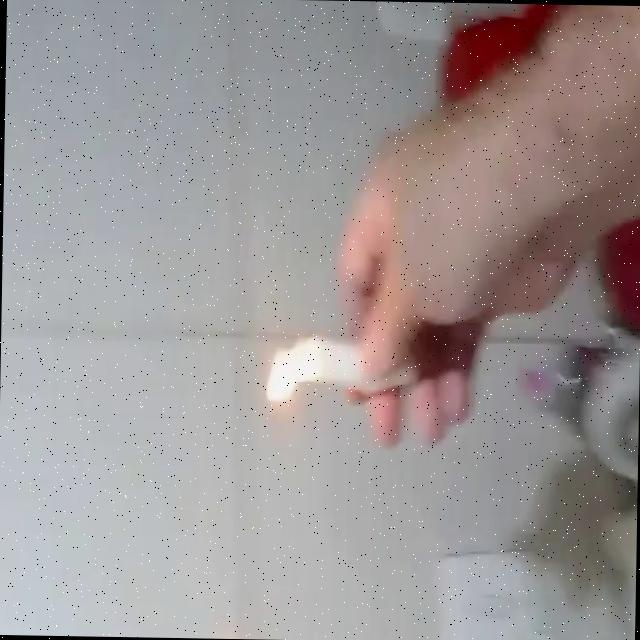fire: (262, 344, 300, 405)
